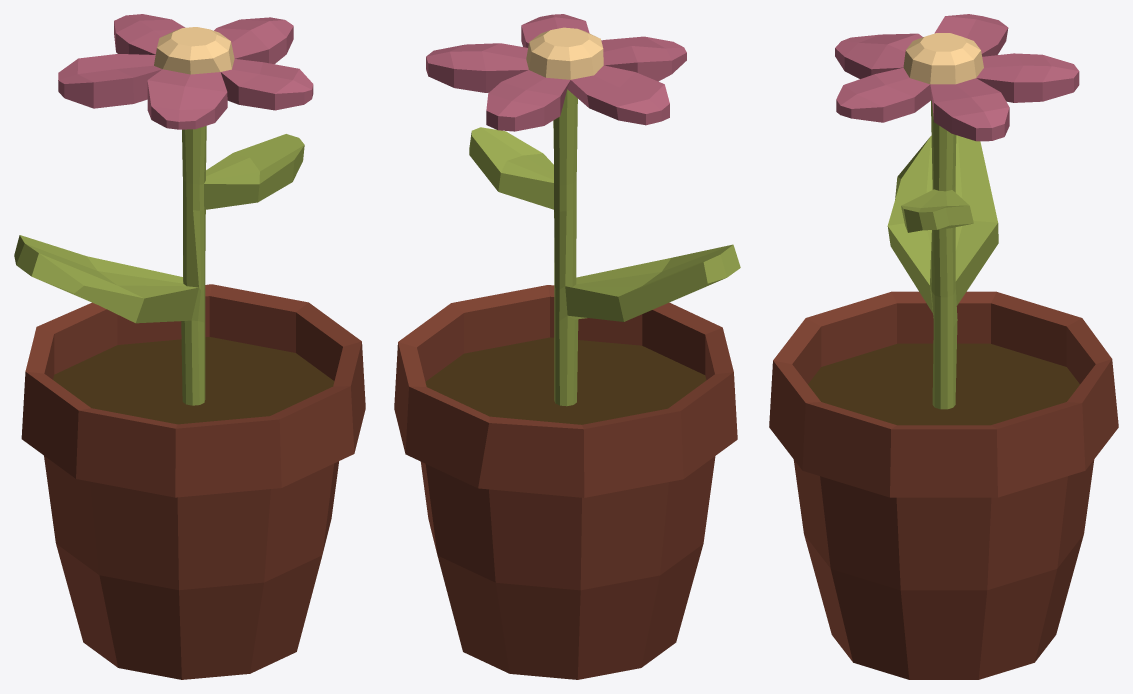
The model's file is flowerpot.fbx.
3 views of the same model, side by side, from view 1: azimuth 30°, elevation 25°; view 2: azimuth 150°, elevation 25°; view 3: azimuth 270°, elevation 25° (orthographic).
Visible parts, largest first — view 1: Cylinder; view 2: Cylinder; view 3: Cylinder.
Boxes of the visible parts, x1,y1,x2,y2 form: Cylinder: (14, 14, 365, 679); Cylinder: (394, 14, 740, 679); Cylinder: (769, 14, 1118, 679).
Bounding box in the file's own units: 107 × 193 × 103.
